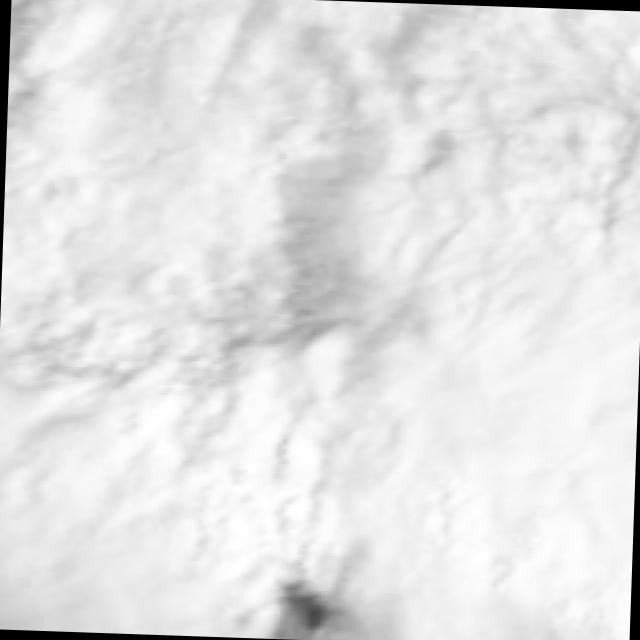CB: (366, 2, 640, 640), (0, 0, 382, 355), (0, 345, 637, 521), (0, 348, 238, 634)
